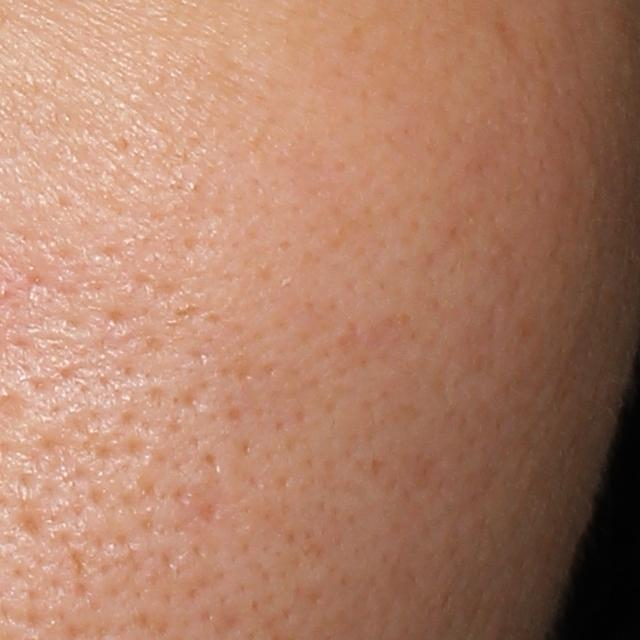atrophic_scar: (17, 514, 49, 546)
